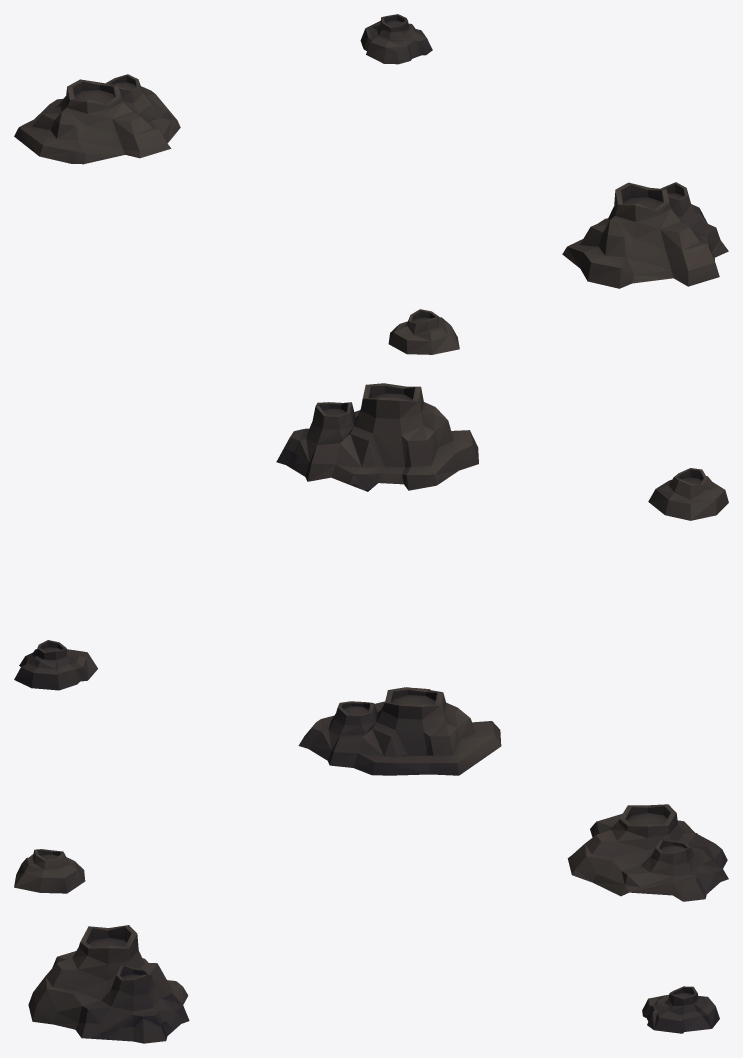
The model's file is Ground_03.FBX.
3 views of the same model, one above another, from view 1: azimuth 30°, elevation 25°; view 2: azimuth 150°, elevation 25°; view 3: azimuth 270°, elevation 25° (orthographic). The views are drawn at different scales.
Visible parts, largest first — view 1: Ground_03; view 2: Ground_03; view 3: Ground_03.
Boxes of the visible parts, <box> form: Ground_03: <box>14,14,728,354</box>; Ground_03: <box>14,383,728,775</box>; Ground_03: <box>14,804,728,1043</box>.
Bounding box in the file's own units: 15.06 × 2.2 × 20.92.
